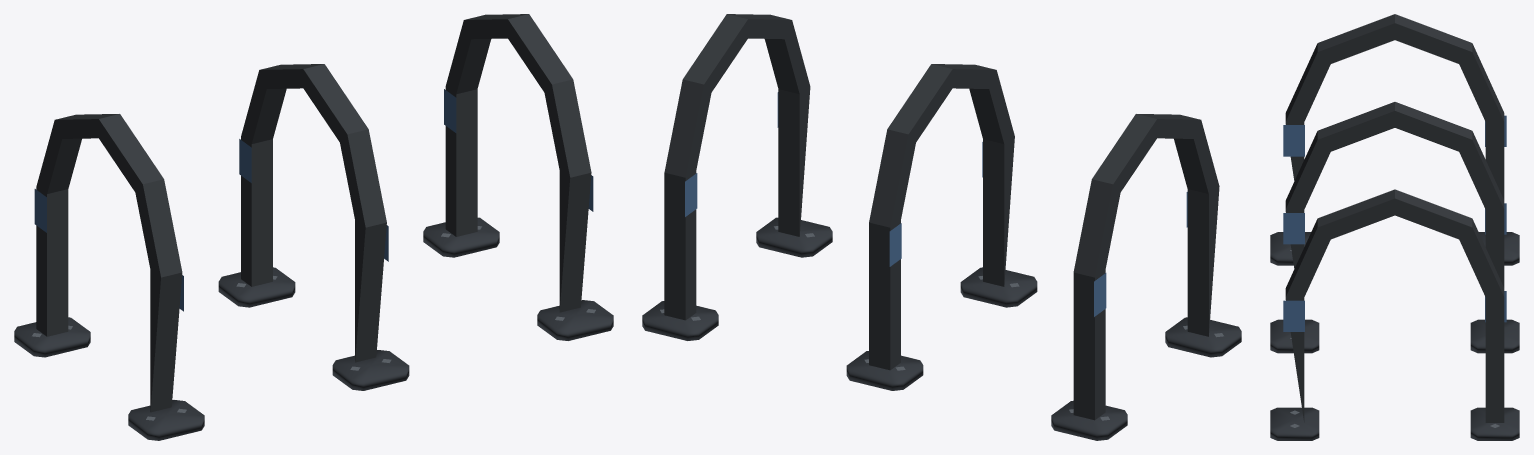
The model's file is bike-rack.glb.
The picture shows the model from 3 angles, left to right: view 1: azimuth 30°, elevation 25°; view 2: azimuth 150°, elevation 25°; view 3: azimuth 270°, elevation 25°; orthographic projection. The views are drawn at different scales.
Visible parts, largest first — view 1: Merged_prop-body, Merged_city-metal-dark, Merged_rack-identity-band; view 2: Merged_prop-body, Merged_city-metal-dark, Merged_rack-identity-band; view 3: Merged_prop-body, Merged_city-metal-dark, Merged_rack-identity-band.
Part boxes in pixels (x1,y1,x2,y2): Merged_prop-body: (36,14,591,412); Merged_city-metal-dark: (14,217,613,440); Merged_rack-identity-band: (34,89,593,311); Merged_prop-body: (664,14,1219,420); Merged_city-metal-dark: (642,217,1241,440); Merged_rack-identity-band: (685,92,1187,316); Merged_prop-body: (1285,14,1504,422); Merged_city-metal-dark: (1270,232,1519,440); Merged_rack-identity-band: (1283,115,1506,331).
Size of what is drawn, in the model's own units: 1.64 by 0.8995 by 0.865.
